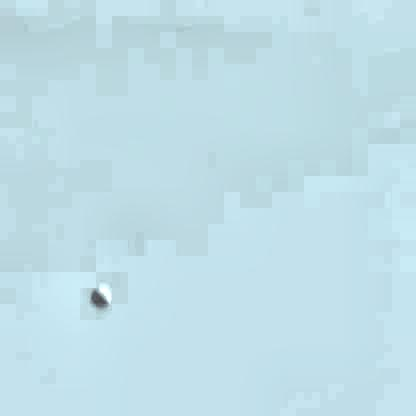golfball: (88, 282, 110, 306)
